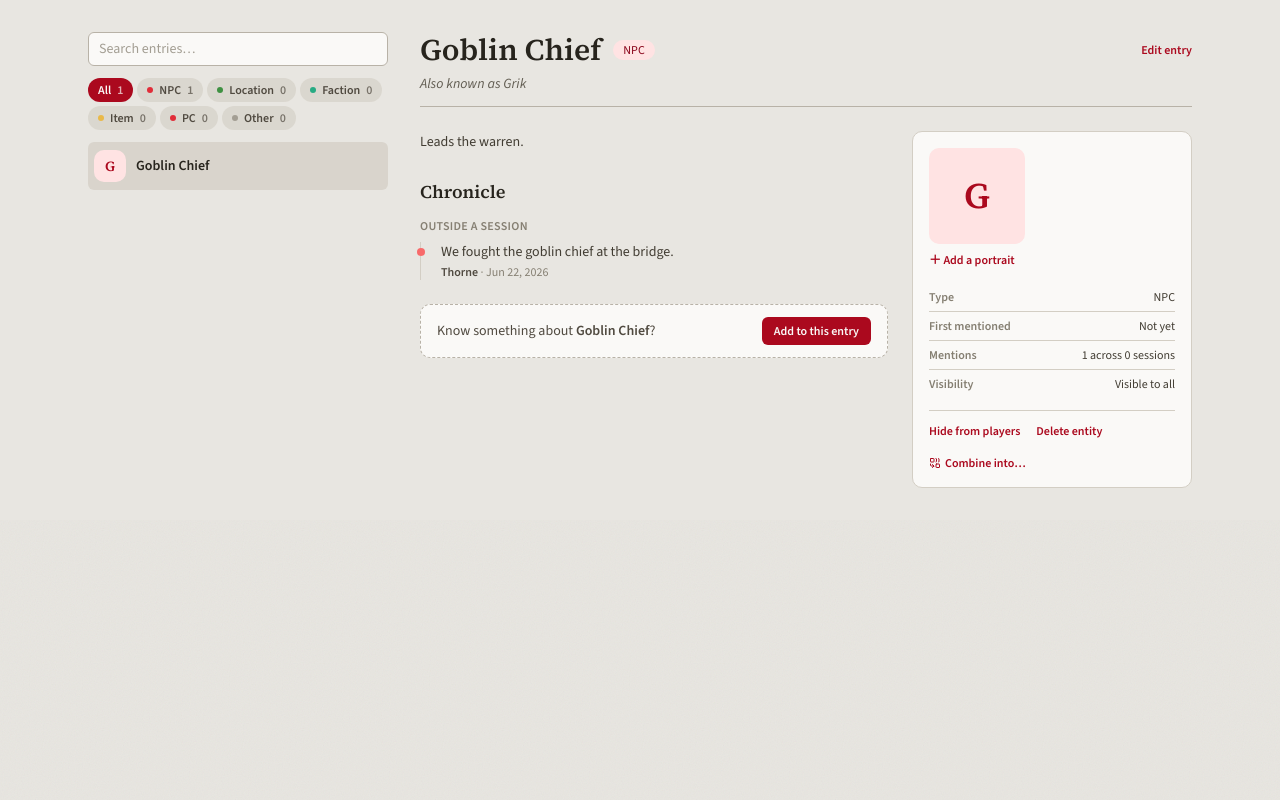
it: EntityDetailPage (#248) › shows the owner an Add-a-portrait affordance that opens the edit form (#844)
Click the button "＋ Add a portrait" at (972, 260), box [929, 252, 1015, 268]
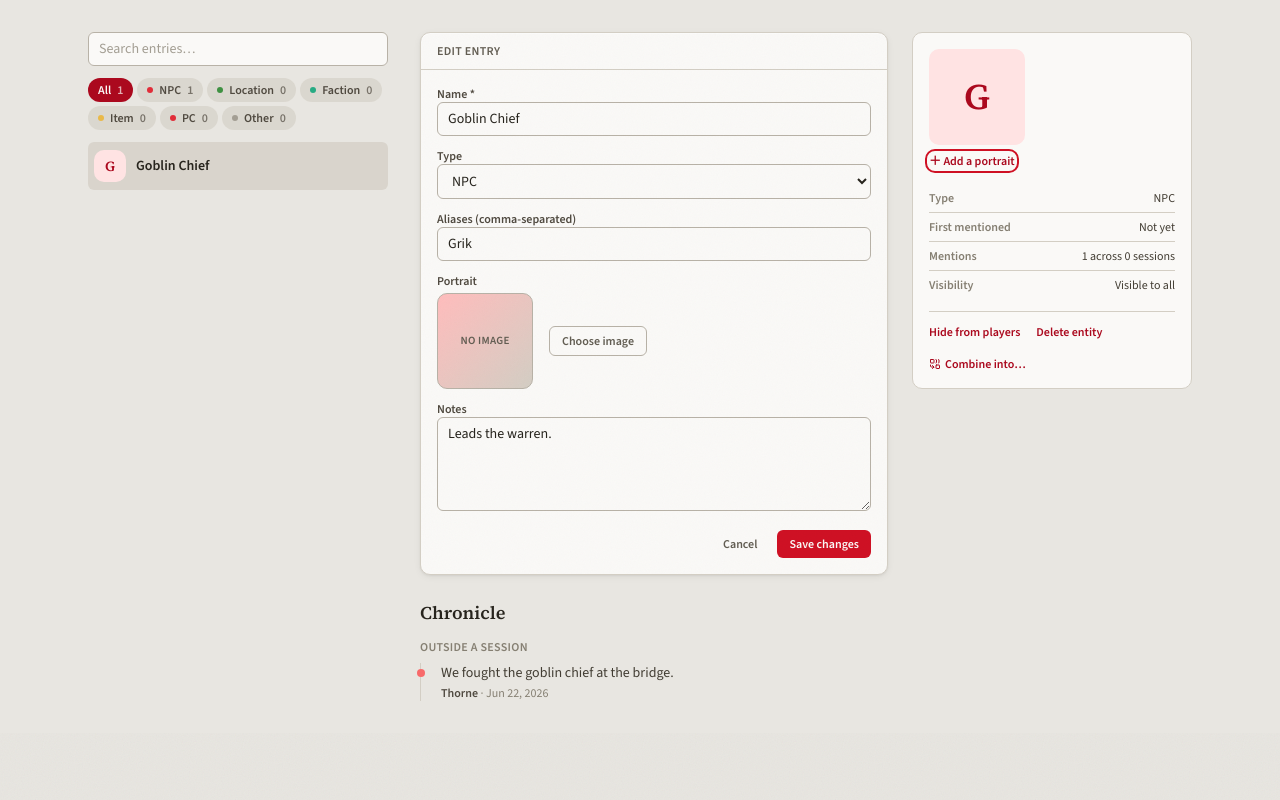
Result: the button "Choose image" is shown at [549, 326, 647, 356]
